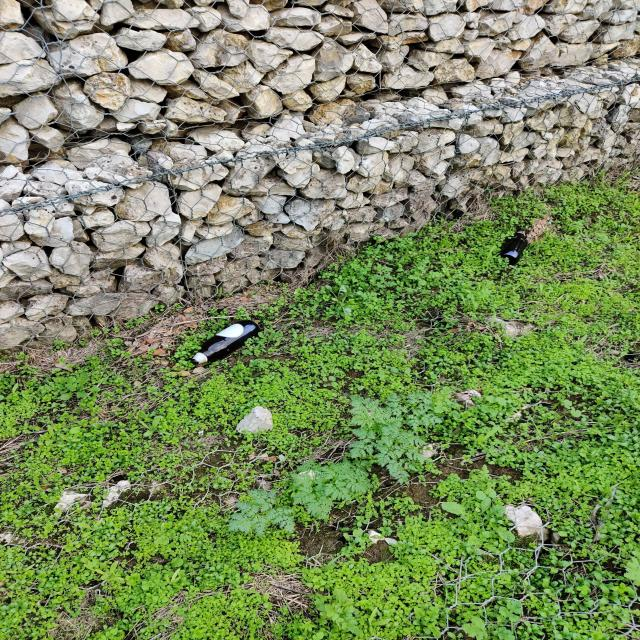litter: (189, 319, 261, 366), (497, 230, 528, 266)
